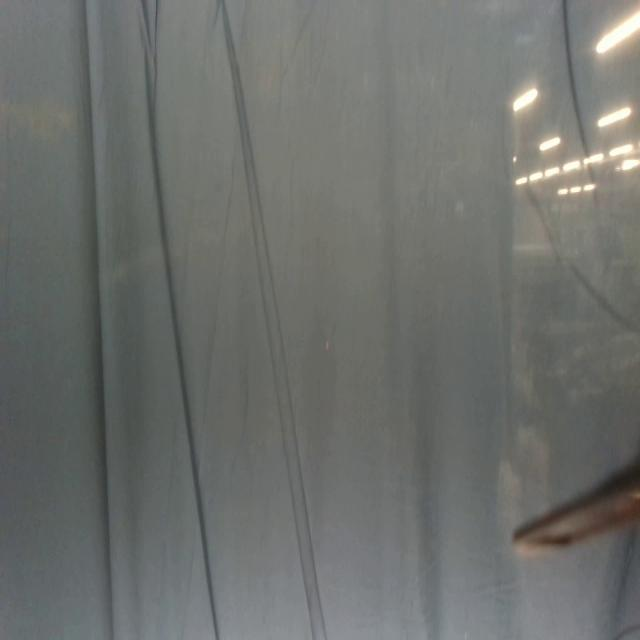crease: (221, 0, 329, 640), (138, 4, 219, 640), (82, 0, 115, 636), (524, 181, 636, 347), (560, 0, 596, 197)
